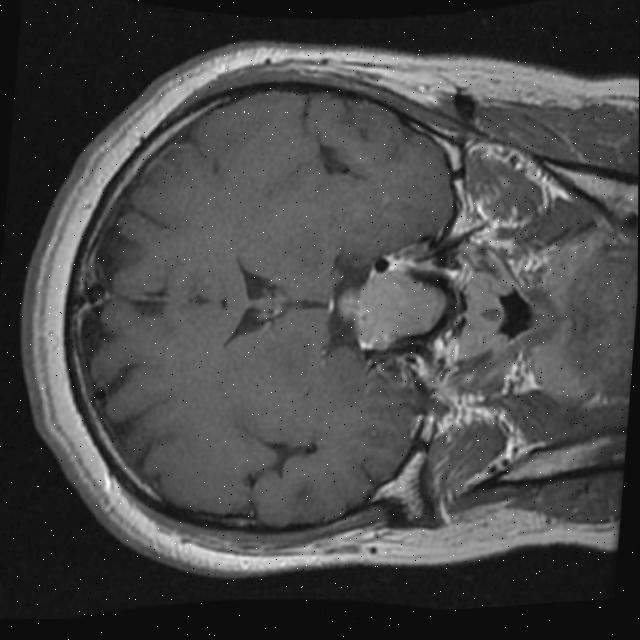Pituitary: (332, 261, 450, 358)
